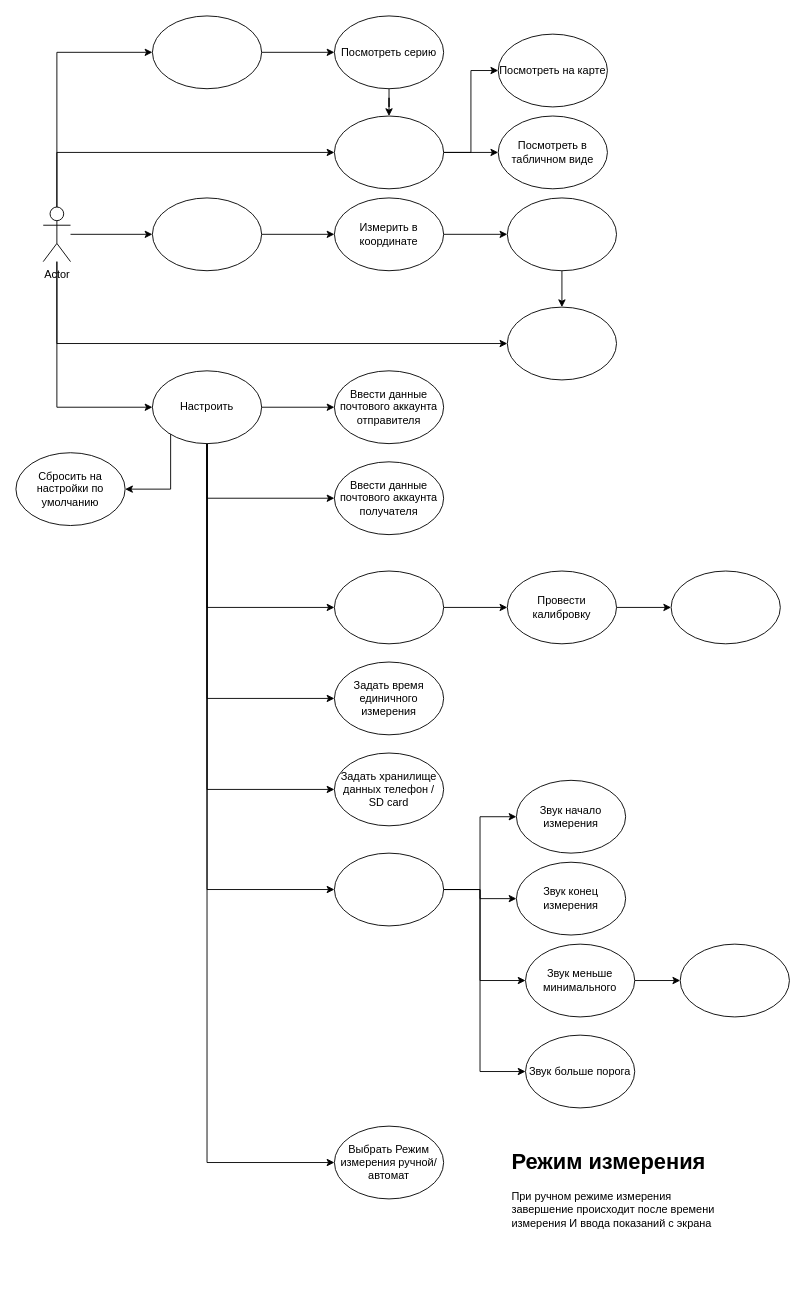
The diagram is 805 pixels wide and 1297 high, and some of its shapes have lost their labels. Here are the shapes that lost their labels. From the top down, the centre of each, then its label:
pixel 207 52: Посмотреть список серий
pixel 389 152: Посмотреть единичное измерение
pixel 207 234: Начать серию измерений
pixel 561 234: Завершить серию измерений
pixel 561 343: отправить e-mail с данными
pixel 389 607: Выбрать марку дозиметра из списка
pixel 725 607: Ввести параметры калибровочного источника
pixel 389 889: Настроить звуковое оповещение
pixel 734 980: Установить минимальную границу
